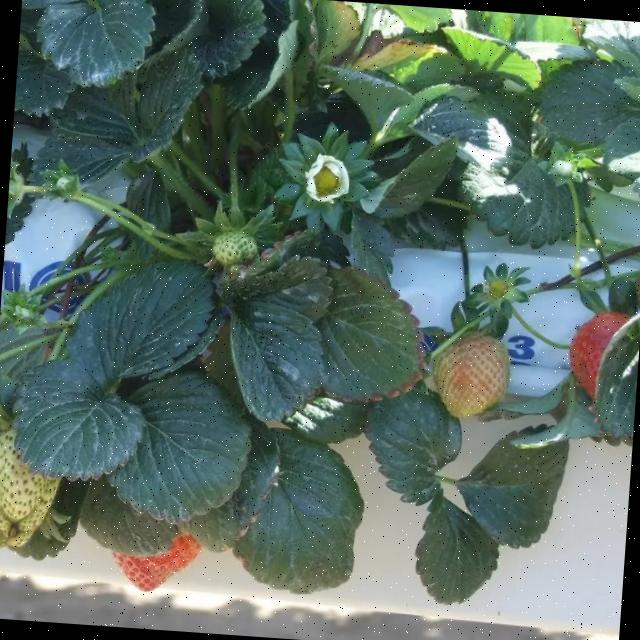Ripe Strawberry: (557, 300, 628, 404), (119, 547, 197, 598)
